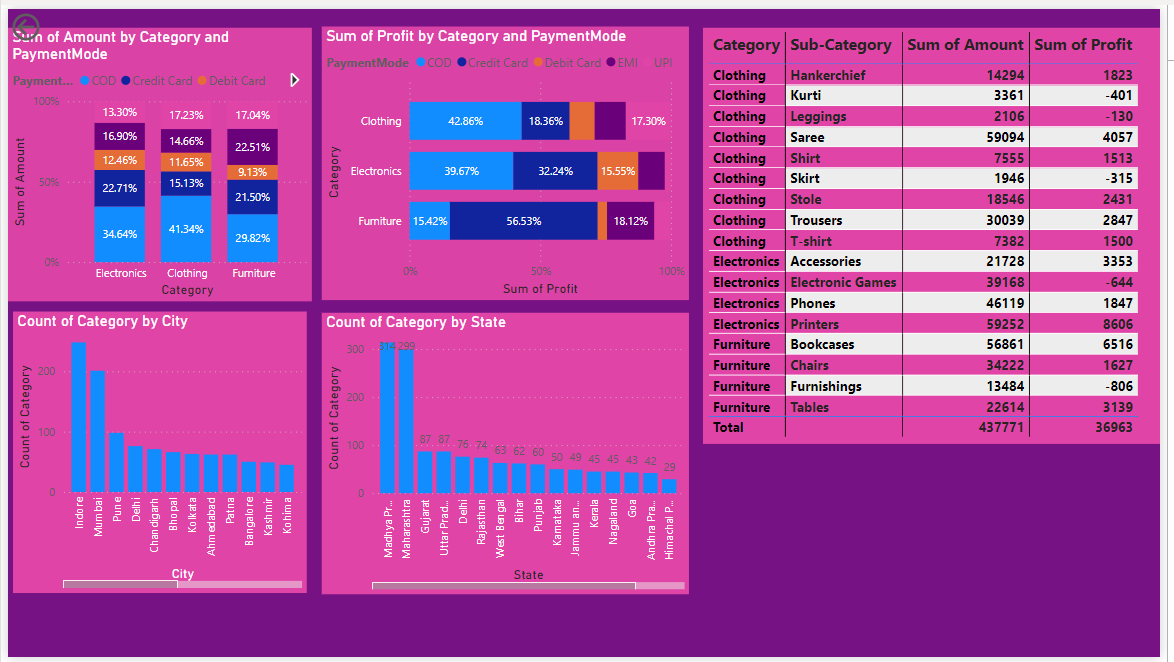

Layout of this report page (visuals, bound fields, positions):
{"tool":"powerbi","page":{"name":"Page 2","canvas":[1280,720],"ordinal":1},"visuals":[{"type":"textbox","box":[9.8,0,313.8,71.4],"z":0},{"type":"clusteredColumnChart","fields":{"Category":["Orders.State"],"Y":["CountNonNull(Details.Category)"]},"box":[288.2,408.9,255.2,311.5],"z":1000},{"type":"clusteredColumnChart","fields":{"Category":["Orders.City"],"Y":["CountNonNull(Details.Category)"]},"box":[24.7,407.5,240.1,311.5],"z":2000},{"type":"hundredPercentStackedColumnChart","fields":{"Series":["Details.PaymentMode"],"Category":["Details.Category"],"Y":["Sum(Details.Amount)"]},"box":[24.7,89.2,337.6,303.3],"z":3000},{"type":"hundredPercentStackedBarChart","fields":{"Series":["Details.PaymentMode"],"Category":["Details.Category"],"Y":["Sum(Details.Profit)"]},"box":[387,90.6,408.9,303.3],"z":4000},{"type":"tableEx","fields":{"Values":["Details.Category","Details.Sub-Category","Sum(Details.Amount)"]},"box":[812.4,89.2,408.9,404.8],"z":5000}]}

Visuals, with their boxes in screenshot pixels (x1, y1, x2, y2), scaled from the page's 1280x720 canvas onto the 1174x662 screenshot:
textbox: [9,0,297,66]
clusteredColumnChart - Orders.State x CountNonNull(Details.Category): [264,376,498,661]
clusteredColumnChart - Orders.City x CountNonNull(Details.Category): [23,375,243,661]
hundredPercentStackedColumnChart - Details.PaymentMode x Details.Category: [23,82,332,361]
hundredPercentStackedBarChart - Details.PaymentMode x Details.Category: [355,83,730,362]
tableEx - Details.Category x Details.Sub-Category: [745,82,1120,454]
